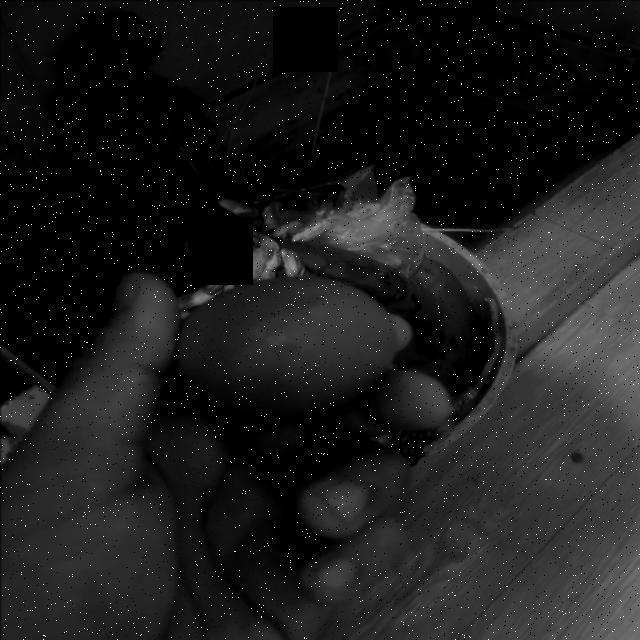egg: (179, 265, 397, 424)
